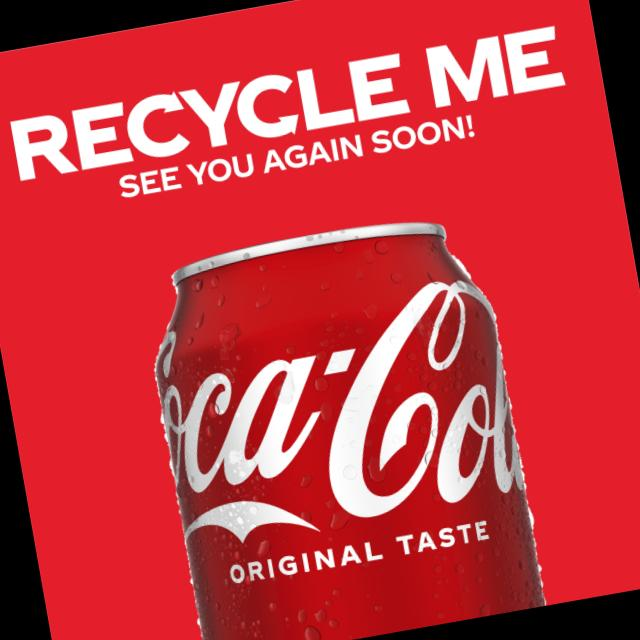cocacola: (134, 199, 580, 640)
